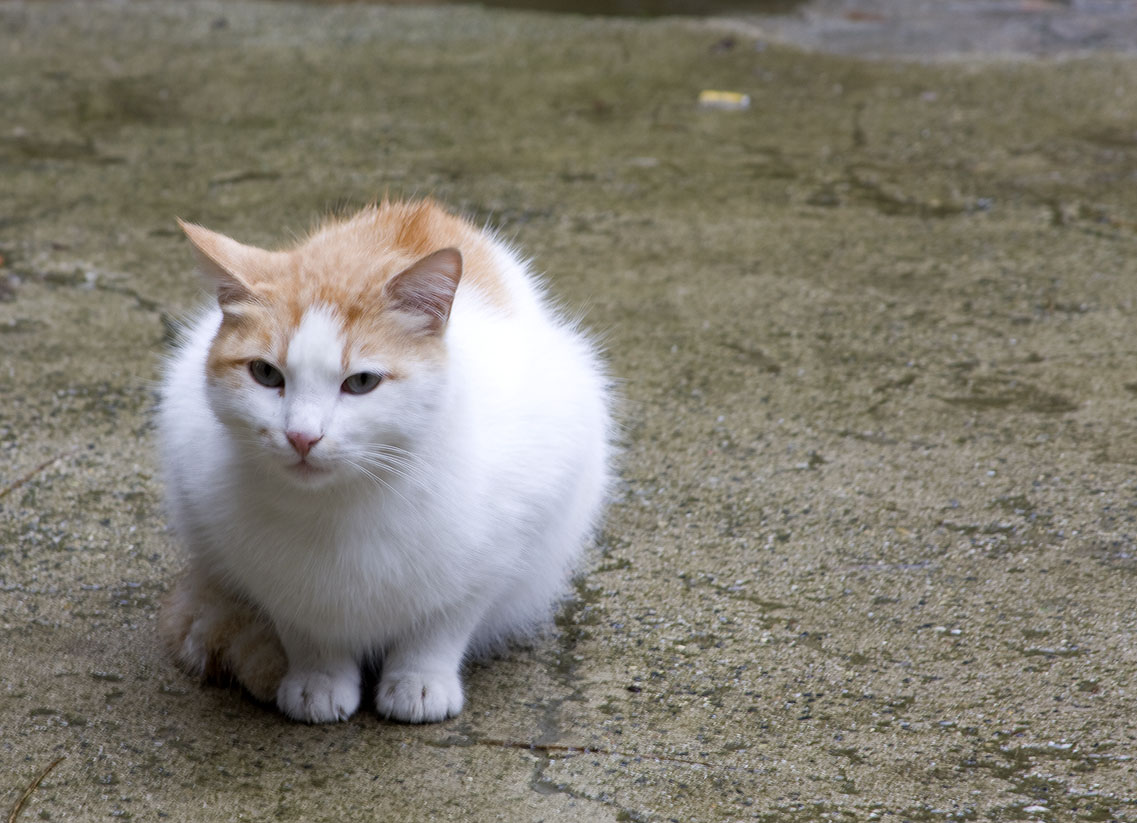cat: (155, 186, 624, 720)
